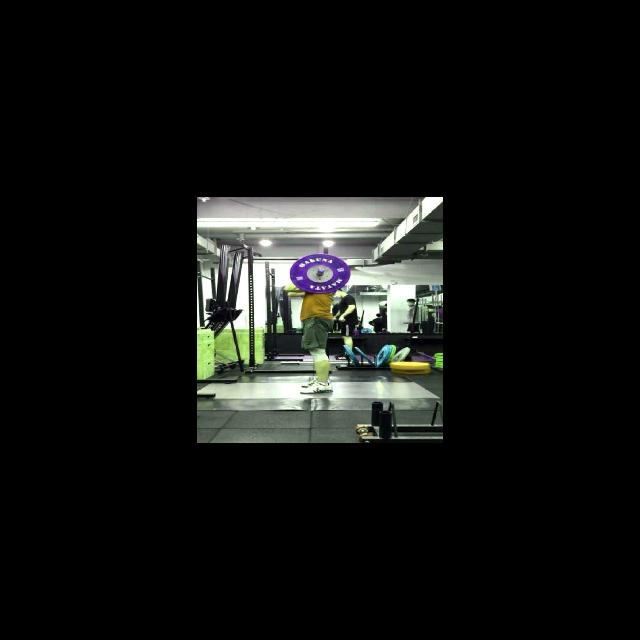barbell: (289, 250, 352, 295)
